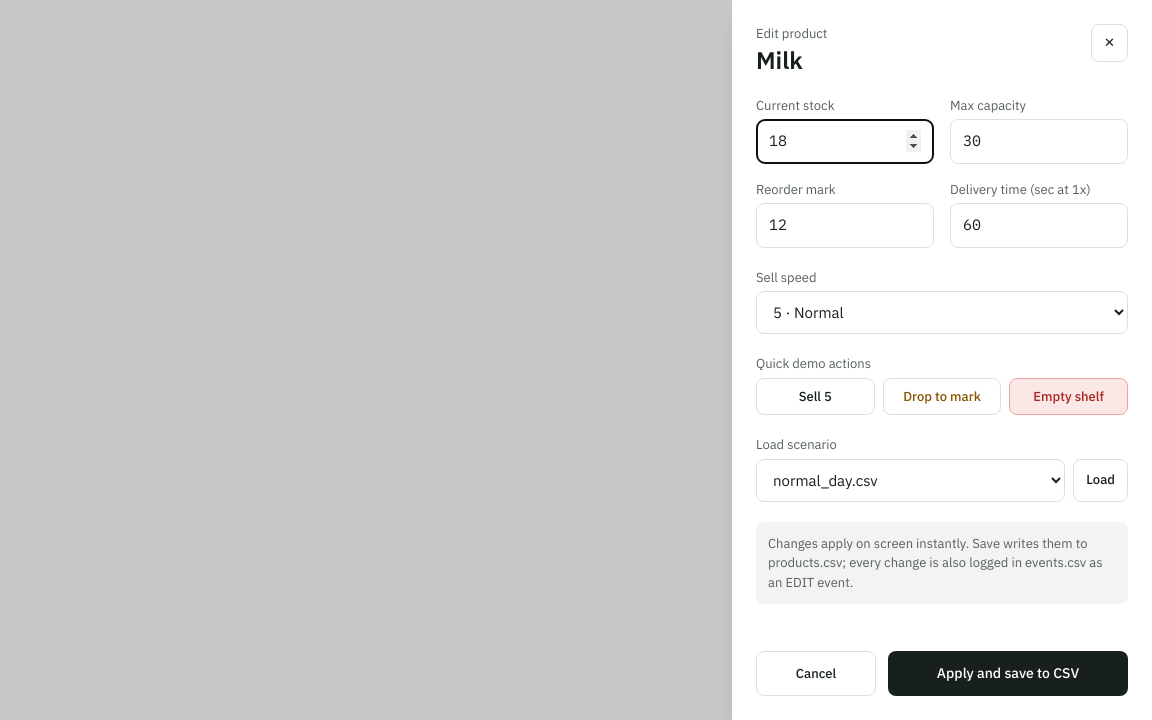
EditDrawer › rejects a non-number before sending
Clear the number field labelled "Current stock" at [845, 141], box [756,119,934,164]
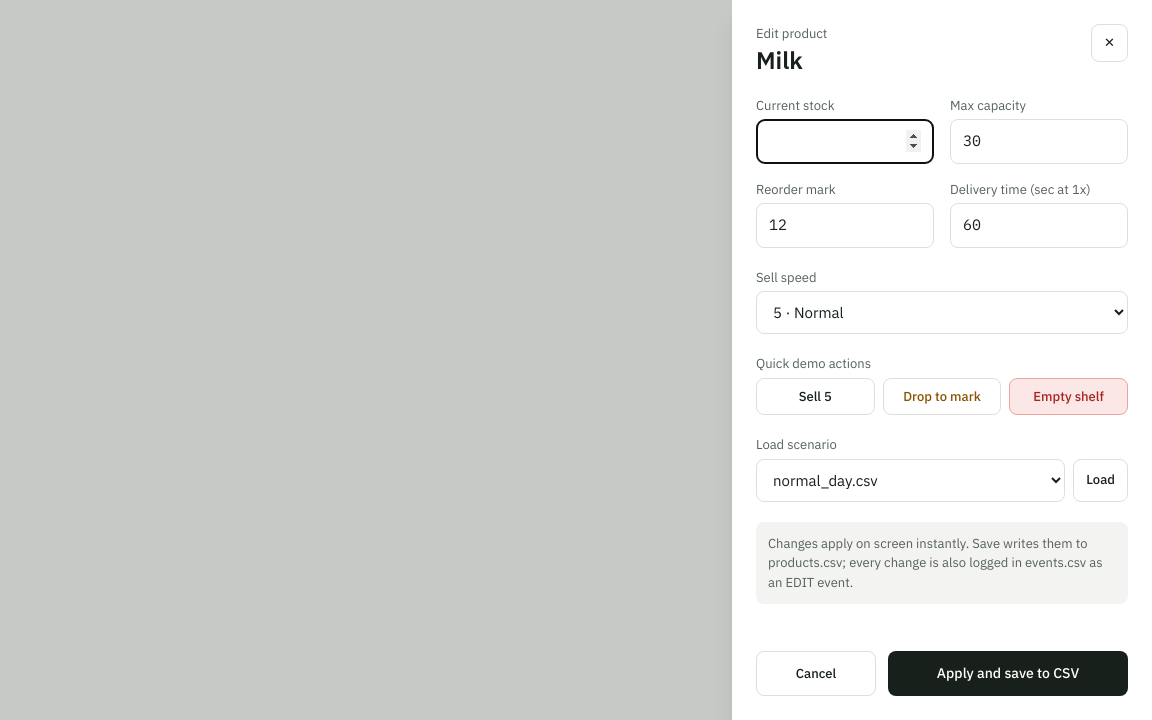
Click the button "Apply and save to CSV" at [1008, 673], box [888,650,1128,696]
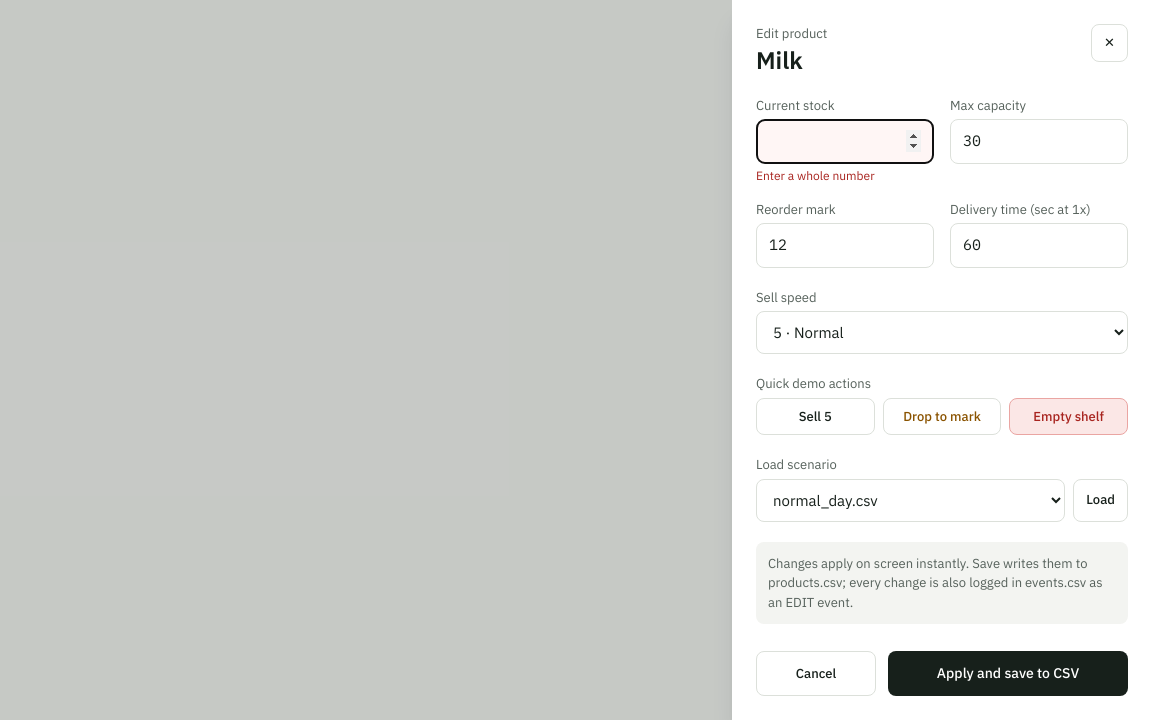
Result: the text "Enter a whole number" is shown at [756,168,874,182]
